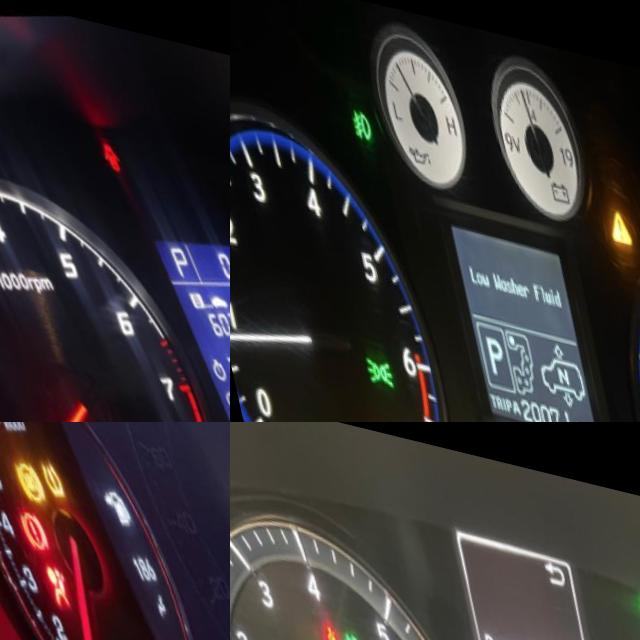Doors: (85, 120, 125, 170)
Seat Belt: (310, 614, 332, 640)
